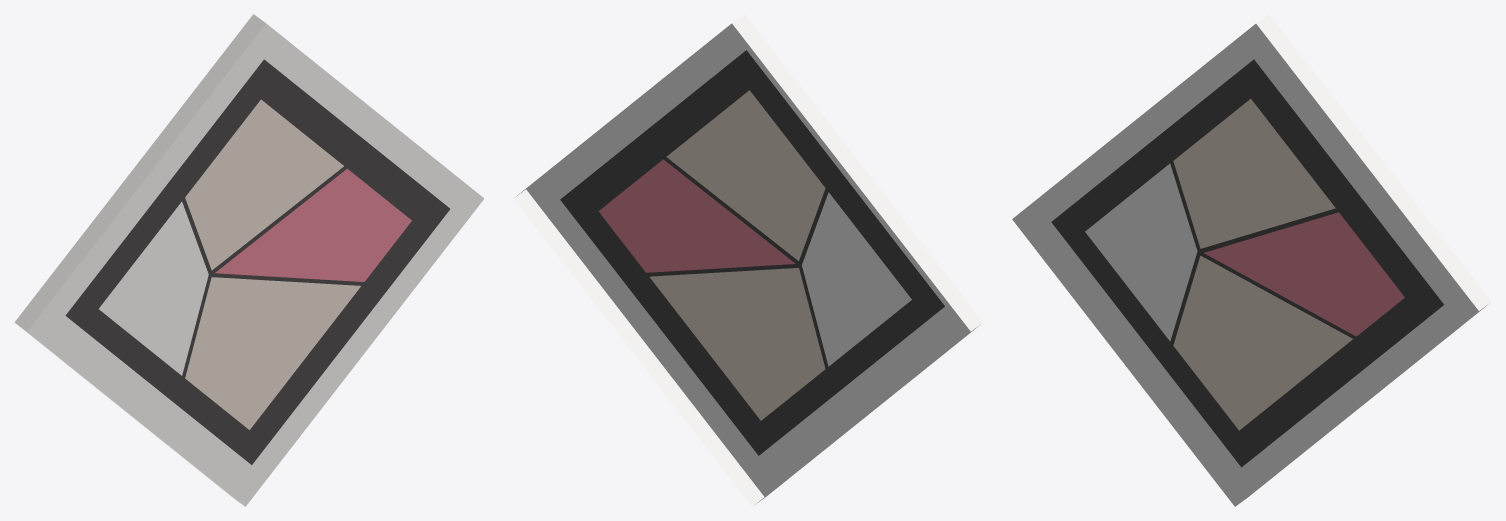
Rendered from Picture_5.glb.
3 views of the same model, side by side, from view 1: azimuth 30°, elevation 25°; view 2: azimuth 150°, elevation 25°; view 3: azimuth 330°, elevation 25° (orthographic). The views are drawn at different scales.
Parts seen in each view (by area): view 1: Picture_5; view 2: Picture_5; view 3: Picture_5.
Part boxes in pixels (x1,y1,x2,y2): Picture_5: (14,14,484,506); Picture_5: (513,14,983,506); Picture_5: (1012,14,1491,506).
Size of the model in its own units: 1.21 by 1.21 by 0.0582.
Materials: 1 (1 with a texture image).
